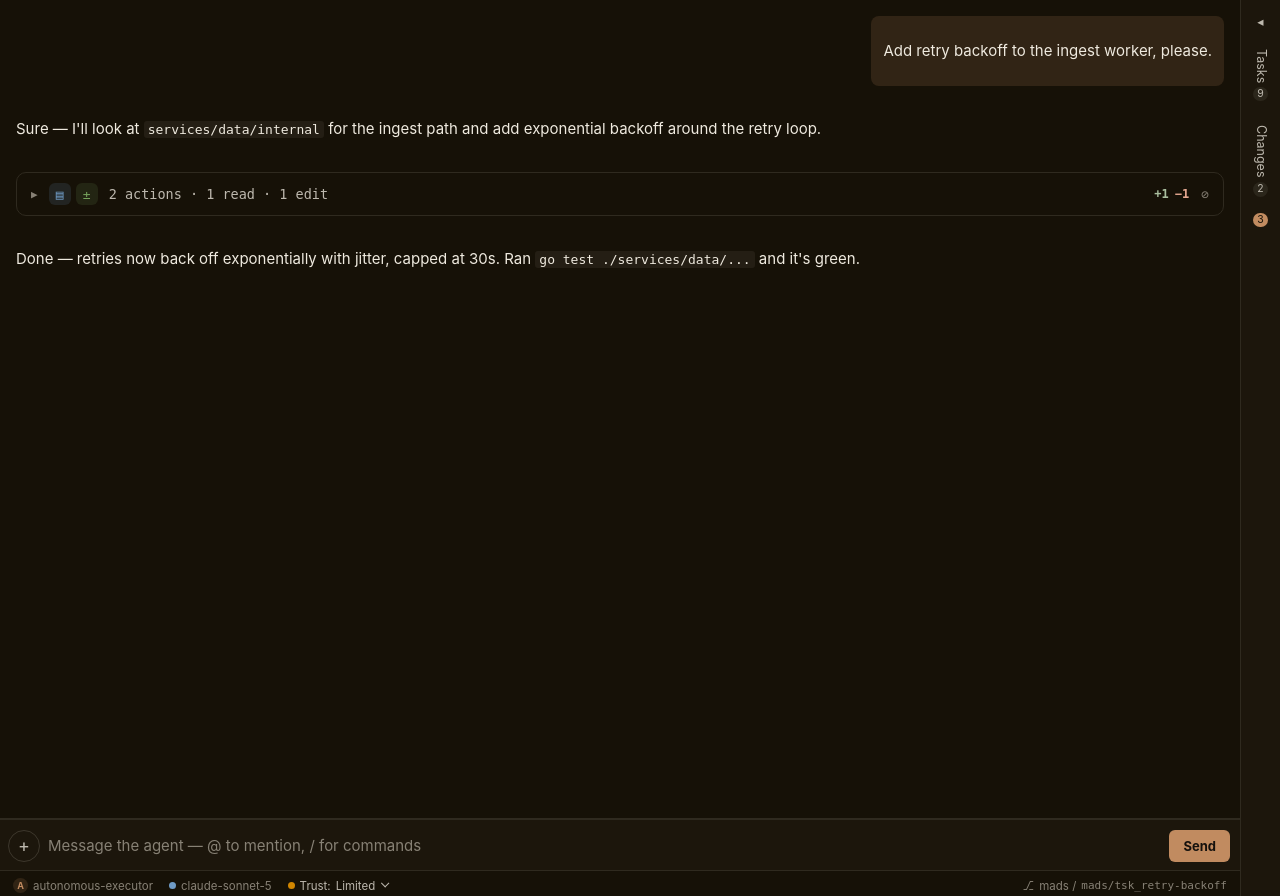
Scenario: WORKSPACE_TABS › ConversationTabView also mounts the Context Rail, identical regardless of chat/terminal mode
The image size is (1280, 896).
Click the button named "Expand context rail": (1261, 22) [1253,12,1268,32]
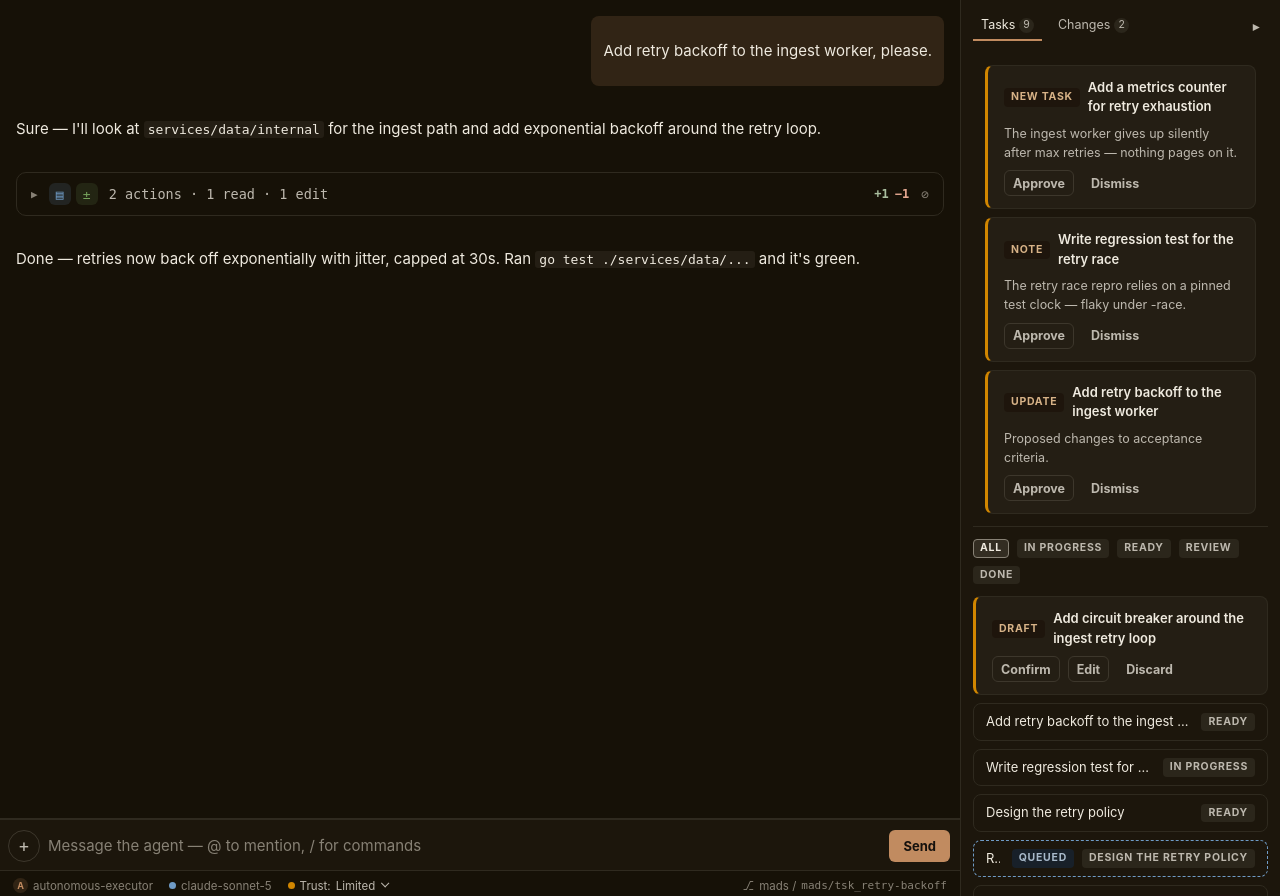
Expected: the button "Changes 2" is shown, [1050,12,1137,41]
Expected: the text "Add a metrics counter for retry exhaustion" is shown, [1088,78,1239,117]
